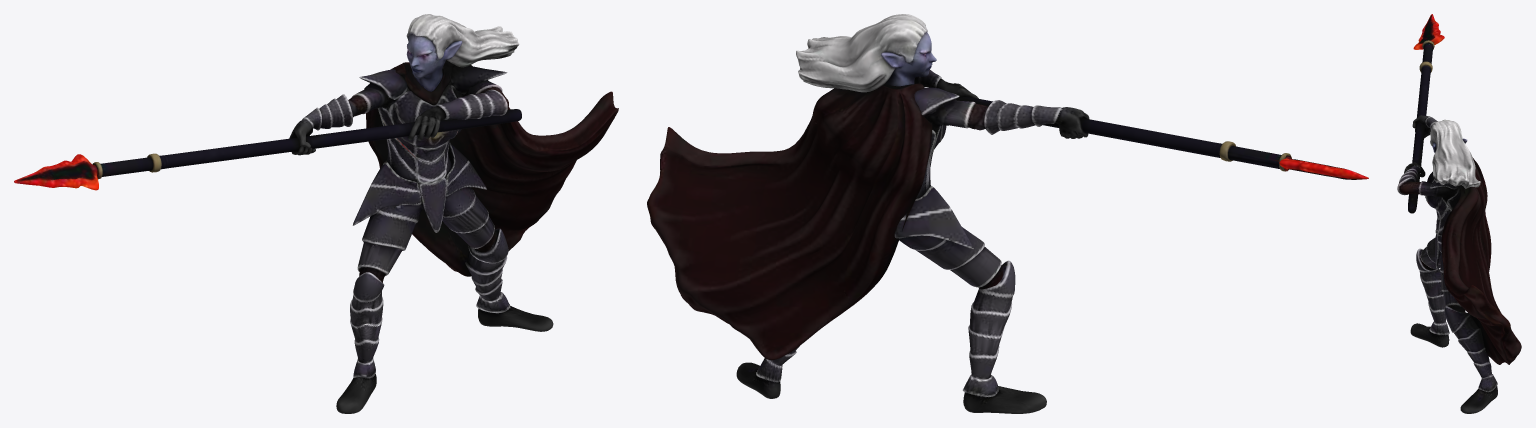
Rendered from MZ4250 - Drow Inquisitor.glb.
3 renders of one model, left to right at view 1: azimuth 30°, elevation 25°; view 2: azimuth 150°, elevation 25°; view 3: azimuth 270°, elevation 25°, orthographic. The views are drawn at different scales.
Parts seen in each view (by area): view 1: Body.002; view 2: Body.002; view 3: Body.002.
Boxes of the visible parts, x1,y1,x2,y2 form: Body.002: [14, 14, 618, 413]; Body.002: [647, 14, 1368, 413]; Body.002: [1397, 14, 1521, 413].
Size of the model in its own units: 161 by 86.29 by 39.45.
Materials: 1 (1 with a texture image).
